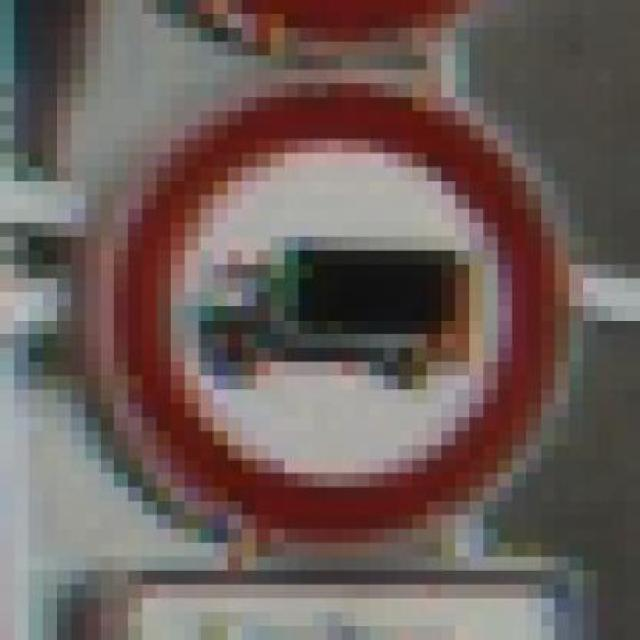Truck traffic is prohibited: (42, 69, 626, 585)
